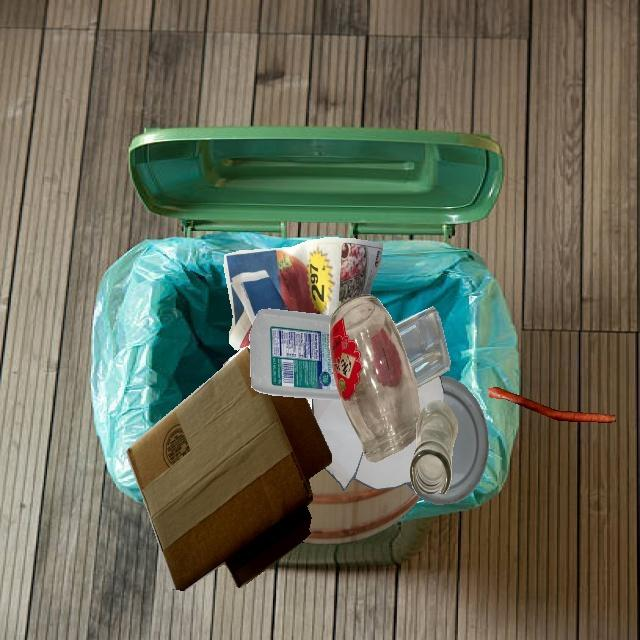biowaste: (488, 387, 616, 423), (330, 313, 333, 316)
cardboard: (127, 347, 332, 590)
combustible waste: (301, 468, 420, 545)
glass: (329, 294, 420, 462), (410, 400, 457, 494)
paper: (223, 238, 383, 351), (358, 320, 437, 462), (312, 398, 358, 490)
plastic: (405, 376, 489, 505), (250, 308, 341, 401), (395, 306, 451, 388)
